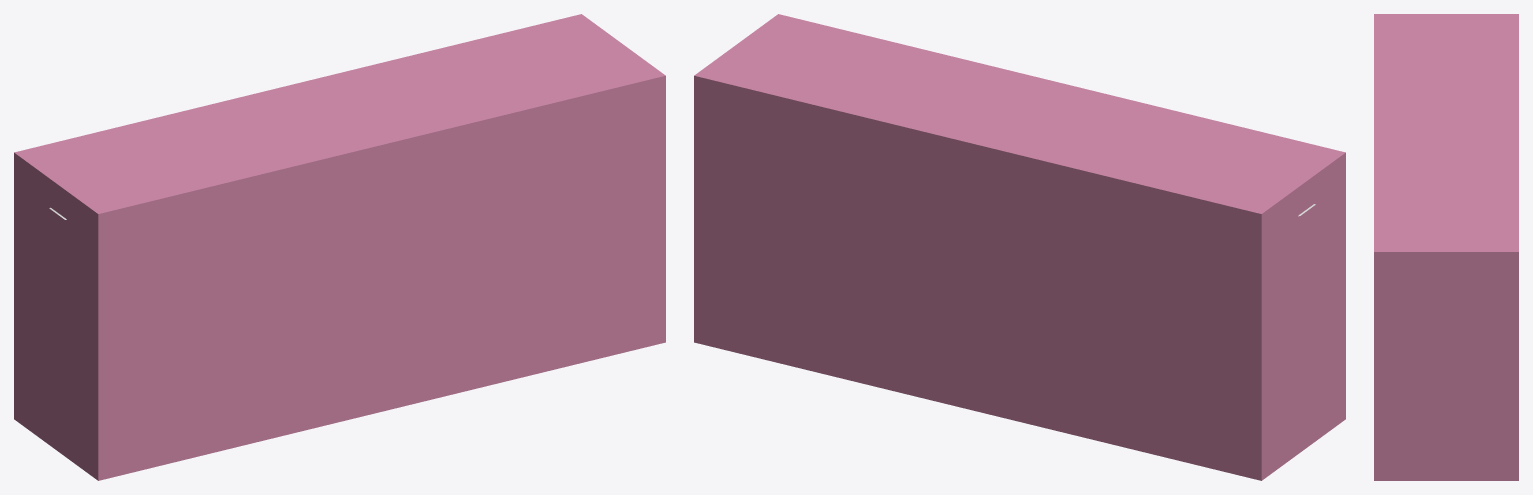
Rendered from Cave_01a.dae.
3 views of the same model, side by side, from view 1: azimuth 30°, elevation 25°; view 2: azimuth 150°, elevation 25°; view 3: azimuth 270°, elevation 25° (orthographic). The views are drawn at different scales.
Parts seen in each view (by area): view 1: Untitled; view 2: Untitled; view 3: Untitled.
Part boxes in pixels (x1,y1,x2,y2): Untitled: [14, 14, 665, 480]; Untitled: [694, 14, 1345, 480]; Untitled: [1374, 14, 1518, 480].
Bounding box in the file's own units: 151 × 38.79 × 67.74.
